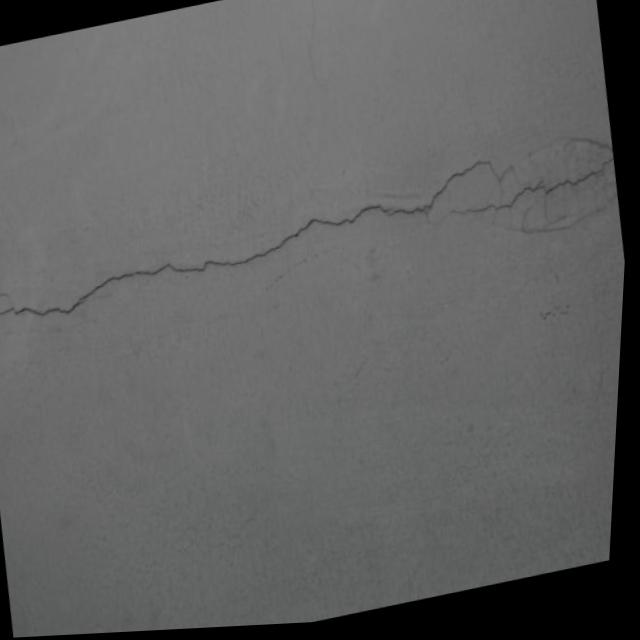Crack: (0, 130, 629, 364)
